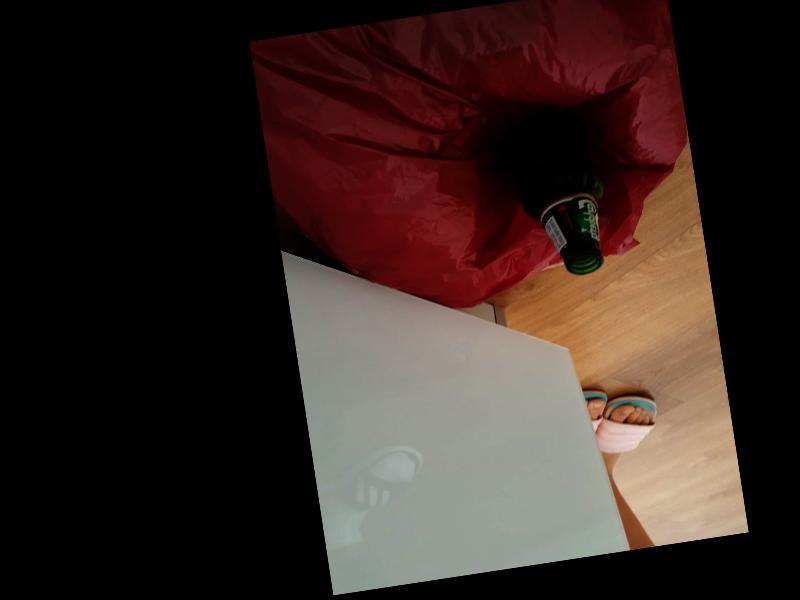Beer: (502, 105, 614, 282)
